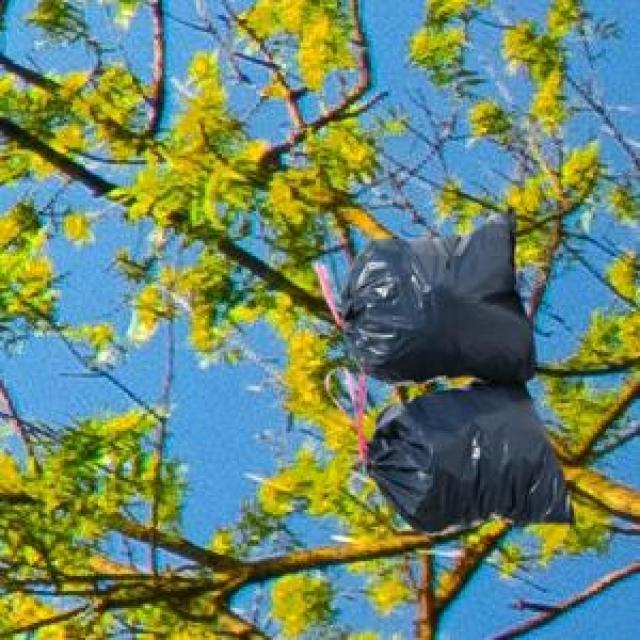garbage_bag: (335, 207, 540, 384), (363, 380, 577, 538)
